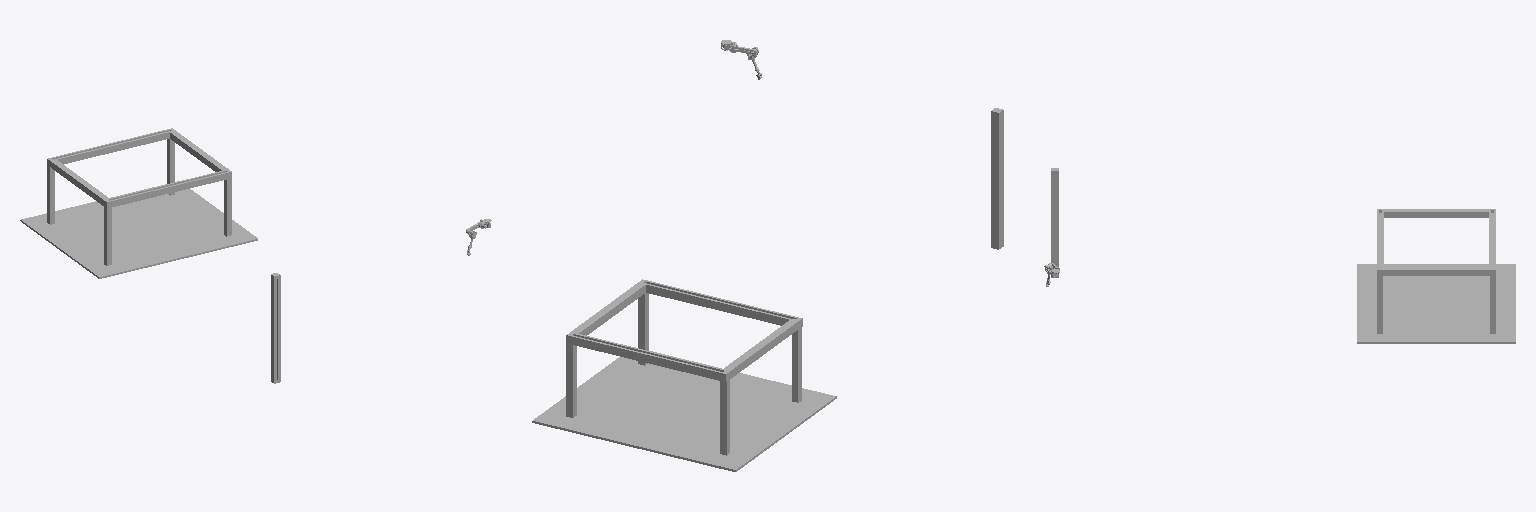
URDF robot description (Shimizu_Robotics_System_URDF_Export.SLDASM):
<?xml version="1.0" encoding="utf-8"?>
<!-- This URDF was automatically created by SolidWorks to URDF Exporter! Originally created by [author] ([email redacted]) 
     Commit Version: 1.6.0-4-g7f85cfe  Build Version: 1.6.7995.38578
     For more information, please see http://wiki.ros.org/sw_urdf_exporter -->
<robot
  name="Shimizu_Robotics_System_URDF_Export.SLDASM">
  <link
    name="Gantry_X">
    <inertial>
      <origin
        xyz="11.601 4.9939 15.827"
        rpy="0 0 0" />
      <mass
        value="11710" />
      <inertia
        ixx="63802"
        ixy="1.8081E-13"
        ixz="-9.9792E-12"
        iyy="107050"
        iyz="-0.050437"
        izz="45367" />
    </inertial>
    <visual>
      <origin
        xyz="0 0 0"
        rpy="0 0 0" />
      <geometry>
        <mesh
          filename="package://Shimizu_Robotics_System_URDF_Export.SLDASM/meshes/Gantry_X.STL" />
      </geometry>
      <material
        name="">
        <color
          rgba="0.75294 0.75294 0.75294 1" />
      </material>
    </visual>
    <collision>
      <origin
        xyz="0 0 0"
        rpy="0 0 0" />
      <geometry>
        <mesh
          filename="package://Shimizu_Robotics_System_URDF_Export.SLDASM/meshes/Gantry_X.STL" />
      </geometry>
    </collision>
  </link>
  <link
    name="Gantry_Y">
    <inertial>
      <origin
        xyz="11.567 7.7681 0.2024"
        rpy="0 0 0" />
      <mass
        value="740.03" />
      <inertia
        ixx="17.062"
        ixy="0.002039"
        ixz="-4.9328E-14"
        iyy="2279.9"
        iyz="8.2965E-16"
        izz="2278.6" />
    </inertial>
    <visual>
      <origin
        xyz="0 0 0"
        rpy="0 0 0" />
      <geometry>
        <mesh
          filename="package://Shimizu_Robotics_System_URDF_Export.SLDASM/meshes/Gantry_Y.STL" />
      </geometry>
      <material
        name="">
        <color
          rgba="0.75294 0.75294 0.75294 1" />
      </material>
    </visual>
    <collision>
      <origin
        xyz="0 0 0"
        rpy="0 0 0" />
      <geometry>
        <mesh
          filename="package://Shimizu_Robotics_System_URDF_Export.SLDASM/meshes/Gantry_Y.STL" />
      </geometry>
    </collision>
  </link>
  <joint
    name="Gantry_X_to_Y"
    type="prismatic">
    <origin
      xyz="0 -16.234 0"
      rpy="1.5708 0 0" />
    <parent
      link="Gantry_X" />
    <child
      link="Gantry_Y" />
    <axis
      xyz="0 0 1" />
    <limit
      lower="0"
      upper="0"
      effort="0"
      velocity="0" />
  </joint>
  <link
    name="Base">
    <inertial>
      <origin
        xyz="0.36884 7.2709 17.038"
        rpy="0 0 0" />
      <mass
        value="645.33" />
      <inertia
        ixx="213.99"
        ixy="0.12239"
        ixz="-0.00078064"
        iyy="42.439"
        iyz="-0.00056304"
        izz="227.81" />
    </inertial>
    <visual>
      <origin
        xyz="0 0 0"
        rpy="0 0 0" />
      <geometry>
        <mesh
          filename="package://Shimizu_Robotics_System_URDF_Export.SLDASM/meshes/Base.STL" />
      </geometry>
      <material
        name="">
        <color
          rgba="0.75294 0.75294 0.75294 1" />
      </material>
    </visual>
    <collision>
      <origin
        xyz="0 0 0"
        rpy="0 0 0" />
      <geometry>
        <mesh
          filename="package://Shimizu_Robotics_System_URDF_Export.SLDASM/meshes/Base.STL" />
      </geometry>
    </collision>
  </link>
  <joint
    name="Gantry_Y_to_Base"
    type="prismatic">
    <origin
      xyz="12.615 0 -16.852"
      rpy="0 0 0" />
    <parent
      link="Gantry_Y" />
    <child
      link="Base" />
    <axis
      xyz="1 0 0" />
    <limit
      lower="0"
      upper="0"
      effort="0"
      velocity="0" />
  </joint>
  <link
    name="Link_1">
    <inertial>
      <origin
        xyz="0.15386 -0.01084 -0.23834"
        rpy="0 0 0" />
      <mass
        value="39.488" />
      <inertia
        ixx="0.82415"
        ixy="-0.13884"
        ixz="-0.16266"
        iyy="1.5307"
        iyz="0.086028"
        izz="1.6236" />
    </inertial>
    <visual>
      <origin
        xyz="0 0 0"
        rpy="0 0 0" />
      <geometry>
        <mesh
          filename="package://Shimizu_Robotics_System_URDF_Export.SLDASM/meshes/Link_1.STL" />
      </geometry>
      <material
        name="">
        <color
          rgba="0.75294 0.75294 0.75294 1" />
      </material>
    </visual>
    <collision>
      <origin
        xyz="0 0 0"
        rpy="0 0 0" />
      <geometry>
        <mesh
          filename="package://Shimizu_Robotics_System_URDF_Export.SLDASM/meshes/Link_1.STL" />
      </geometry>
    </collision>
  </link>
  <joint
    name="Joint1"
    type="continuous">
    <origin
      xyz="0.44563 5.7729 17.038"
      rpy="-1.5708 -0.29756 3.1416" />
    <parent
      link="Base" />
    <child
      link="Link_1" />
    <axis
      xyz="0 0 1" />
  </joint>
  <link
    name="Link_2">
    <inertial>
      <origin
        xyz="0.020078 0.20905 0.39436"
        rpy="0 0 0" />
      <mass
        value="26.224" />
      <inertia
        ixx="2.763"
        ixy="-0.0029338"
        ixz="-0.019264"
        iyy="2.8501"
        iyz="-0.031691"
        izz="0.15604" />
    </inertial>
    <visual>
      <origin
        xyz="0 0 0"
        rpy="0 0 0" />
      <geometry>
        <mesh
          filename="package://Shimizu_Robotics_System_URDF_Export.SLDASM/meshes/Link_2.STL" />
      </geometry>
      <material
        name="">
        <color
          rgba="0.75294 0.75294 0.75294 1" />
      </material>
    </visual>
    <collision>
      <origin
        xyz="0 0 0"
        rpy="0 0 0" />
      <geometry>
        <mesh
          filename="package://Shimizu_Robotics_System_URDF_Export.SLDASM/meshes/Link_2.STL" />
      </geometry>
    </collision>
  </link>
  <joint
    name="Joint_2"
    type="continuous">
    <origin
      xyz="0.32 0 -0.1973"
      rpy="0 1.4193 0" />
    <parent
      link="Link_1" />
    <child
      link="Link_2" />
    <axis
      xyz="0 1 0" />
  </joint>
  <link
    name="Link_3">
    <inertial>
      <origin
        xyz="0.1709 0.0054369 0.13441"
        rpy="0 0 0" />
      <mass
        value="41.069" />
      <inertia
        ixx="0.9459"
        ixy="-0.009691"
        ixz="-0.49973"
        iyy="2.6922"
        iyz="-0.024445"
        izz="2.2908" />
    </inertial>
    <visual>
      <origin
        xyz="0 0 0"
        rpy="0 0 0" />
      <geometry>
        <mesh
          filename="package://Shimizu_Robotics_System_URDF_Export.SLDASM/meshes/Link_3.STL" />
      </geometry>
      <material
        name="">
        <color
          rgba="0.75294 0.75294 0.75294 1" />
      </material>
    </visual>
    <collision>
      <origin
        xyz="0 0 0"
        rpy="0 0 0" />
      <geometry>
        <mesh
          filename="package://Shimizu_Robotics_System_URDF_Export.SLDASM/meshes/Link_3.STL" />
      </geometry>
    </collision>
  </link>
  <joint
    name="Joint_3"
    type="continuous">
    <origin
      xyz="0 0 0.87"
      rpy="-3.1416 -0.53738 -3.1416" />
    <parent
      link="Link_2" />
    <child
      link="Link_3" />
    <axis
      xyz="0 1 0" />
  </joint>
  <link
    name="Link_4">
    <inertial>
      <origin
        xyz="0.15531 -0.0026884 -7.1732E-06"
        rpy="0 0 0" />
      <mass
        value="2.0071" />
      <inertia
        ixx="0.0038933"
        ixy="0.00064975"
        ixz="8.2834E-07"
        iyy="0.013325"
        iyz="-4.7487E-07"
        izz="0.013382" />
    </inertial>
    <visual>
      <origin
        xyz="0 0 0"
        rpy="0 0 0" />
      <geometry>
        <mesh
          filename="package://Shimizu_Robotics_System_URDF_Export.SLDASM/meshes/Link_4.STL" />
      </geometry>
      <material
        name="">
        <color
          rgba="0.75294 0.75294 0.75294 1" />
      </material>
    </visual>
    <collision>
      <origin
        xyz="0 0 0"
        rpy="0 0 0" />
      <geometry>
        <mesh
          filename="package://Shimizu_Robotics_System_URDF_Export.SLDASM/meshes/Link_4.STL" />
      </geometry>
    </collision>
  </link>
  <joint
    name="Joint_4"
    type="continuous">
    <origin
      xyz="0.77532 0.0115 0.225"
      rpy="-2.7191 0 0" />
    <parent
      link="Link_3" />
    <child
      link="Link_4" />
    <axis
      xyz="1 0 0" />
  </joint>
  <link
    name="Link_5">
    <inertial>
      <origin
        xyz="0.050878 -0.022728 -2.9198E-11"
        rpy="0 0 0" />
      <mass
        value="3.6409" />
      <inertia
        ixx="0.0192"
        ixy="-0.0045288"
        ixz="-3.1537E-12"
        iyy="0.019576"
        iyz="2.411E-12"
        izz="0.028883" />
    </inertial>
    <visual>
      <origin
        xyz="0 0 0"
        rpy="0 0 0" />
      <geometry>
        <mesh
          filename="package://Shimizu_Robotics_System_URDF_Export.SLDASM/meshes/Link_5.STL" />
      </geometry>
      <material
        name="">
        <color
          rgba="0.75294 0.75294 0.75294 1" />
      </material>
    </visual>
    <collision>
      <origin
        xyz="0 0 0"
        rpy="0 0 0" />
      <geometry>
        <mesh
          filename="package://Shimizu_Robotics_System_URDF_Export.SLDASM/meshes/Link_5.STL" />
      </geometry>
    </collision>
  </link>
  <joint
    name="Joint_5"
    type="continuous">
    <origin
      xyz="0.25418 0 0"
      rpy="0 0.43301 0" />
    <parent
      link="Link_4" />
    <child
      link="Link_5" />
    <axis
      xyz="0 1 0" />
  </joint>
  <link
    name="Link_6">
    <inertial>
      <origin
        xyz="3.5527E-15 -2.2024E-05 0.0030444"
        rpy="0 0 0" />
      <mass
        value="0.22702" />
      <inertia
        ixx="0.00022782"
        ixy="1.2197E-19"
        ixz="-6.346E-18"
        iyy="0.00022856"
        iyz="-3.9842E-08"
        izz="0.00043885" />
    </inertial>
    <visual>
      <origin
        xyz="0 0 0"
        rpy="0 0 0" />
      <geometry>
        <mesh
          filename="package://Shimizu_Robotics_System_URDF_Export.SLDASM/meshes/Link_6.STL" />
      </geometry>
      <material
        name="">
        <color
          rgba="0.75294 0.75294 0.75294 1" />
      </material>
    </visual>
    <collision>
      <origin
        xyz="0 0 0"
        rpy="0 0 0" />
      <geometry>
        <mesh
          filename="package://Shimizu_Robotics_System_URDF_Export.SLDASM/meshes/Link_6.STL" />
      </geometry>
    </collision>
  </link>
  <joint
    name="Joint_6"
    type="continuous">
    <origin
      xyz="0.17392 -0.009 0"
      rpy="1.5708 0.62505 1.5708" />
    <parent
      link="Link_5" />
    <child
      link="Link_6" />
    <axis
      xyz="0 0 1" />
  </joint>
</robot>

--- Facts derived from the render (not from the file) ---
Views: 3 orthographic renders of the robot side by side, from view 1: azimuth 30°, elevation 25°; view 2: azimuth 150°, elevation 25°; view 3: azimuth 270°, elevation 25°.
Model Shimizu_Robotics_System_URDF_Export.SLDASM with 9 links and 8 joints (6 continuous, 2 prismatic), rooted at Gantry_X, posed every joint at zero.
Visible links, largest first — view 1: Gantry_X, Gantry_Y; view 2: Gantry_X, Gantry_Y; view 3: Gantry_X, Gantry_Y.
Link boxes in pixels (x1=…): Gantry_X: x1=20, y1=128, x2=257, y2=278; Gantry_Y: x1=271, y1=273, x2=280, y2=383; Gantry_X: x1=532, y1=279, x2=836, y2=471; Gantry_Y: x1=991, y1=108, x2=1003, y2=249; Gantry_X: x1=1357, y1=209, x2=1515, y2=343; Gantry_Y: x1=1051, y1=168, x2=1058, y2=277.
Size in the robot's own frame: 14.2 by 24.02 by 6.31 metres.
8 mesh visuals loaded from 9 distinct referenced files (8 binary STL); not drawn: 1 (file found but could not be loaded).
